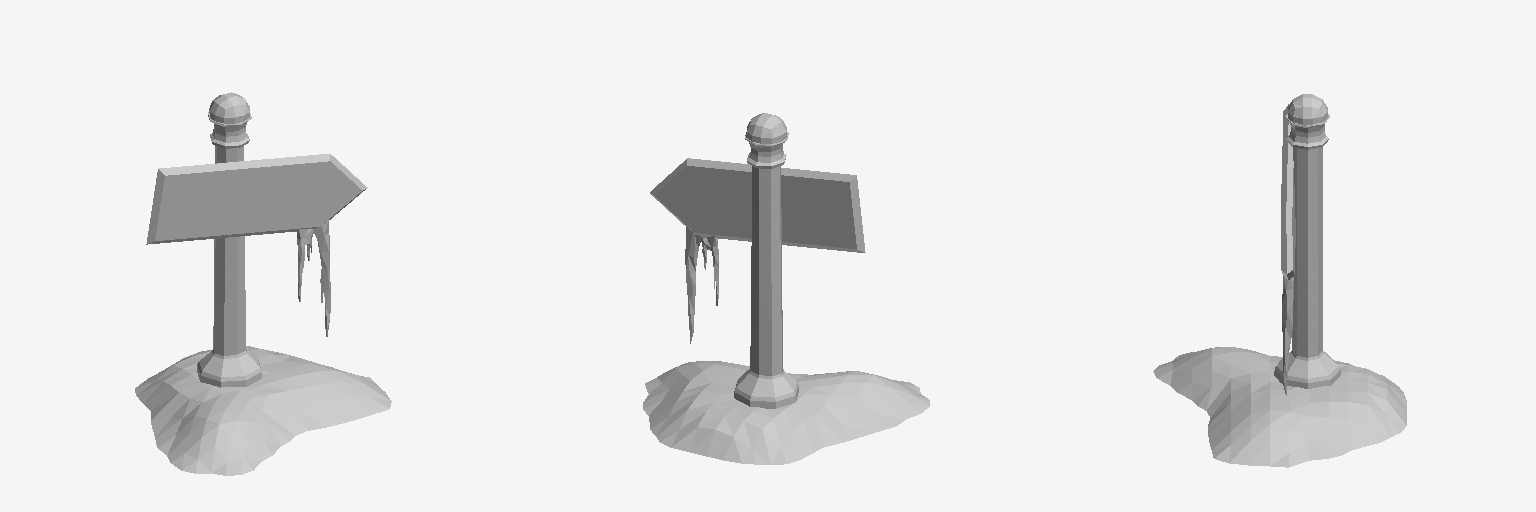
Rendered from northpole_2022.sgm.obj.
3 views of the same model, side by side, from view 1: azimuth 30°, elevation 25°; view 2: azimuth 150°, elevation 25°; view 3: azimuth 270°, elevation 25° (orthographic).
Parts seen in each view (by area): view 1: 0; view 2: 0; view 3: 0.
Boxes of the visible parts, x1,y1,x2,y2 form: 0: [135, 92, 391, 475]; 0: [643, 113, 929, 464]; 0: [1153, 94, 1406, 467].
Bounding box in the file's own units: 0.8435 × 1.04 × 0.7791.